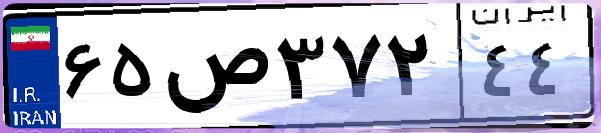2: (385, 28, 445, 110)
3: (270, 28, 330, 110)
4: (475, 38, 525, 113), (525, 38, 570, 115)
5: (110, 28, 158, 98)
6: (57, 26, 110, 100)
7: (330, 28, 385, 110)
ص: (158, 20, 270, 120)
